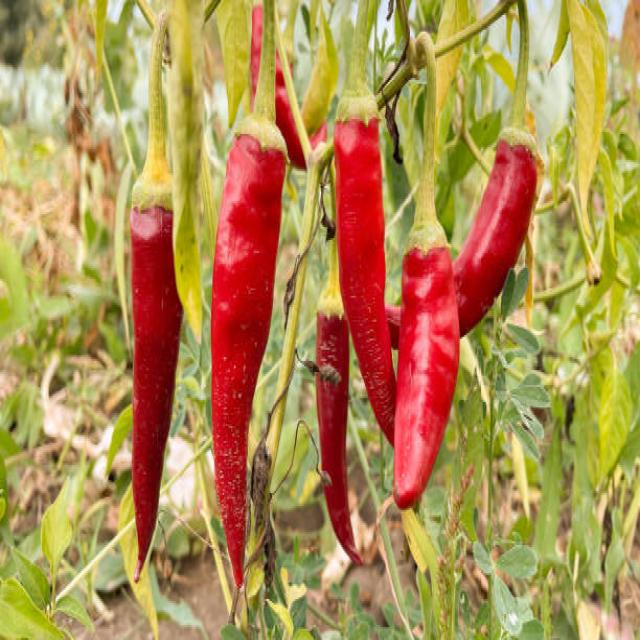Ripe: (210, 119, 287, 592), (131, 207, 182, 573), (336, 123, 393, 439), (393, 249, 459, 508), (453, 136, 536, 335), (316, 313, 361, 562)
